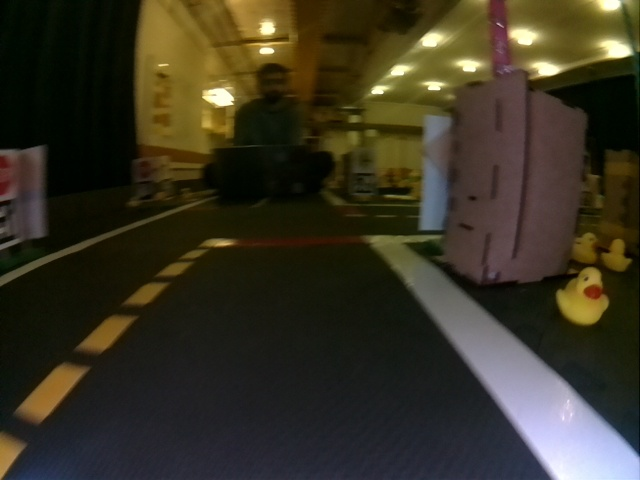Duckie: (556, 268, 609, 325), (603, 239, 630, 271), (572, 233, 598, 263)
